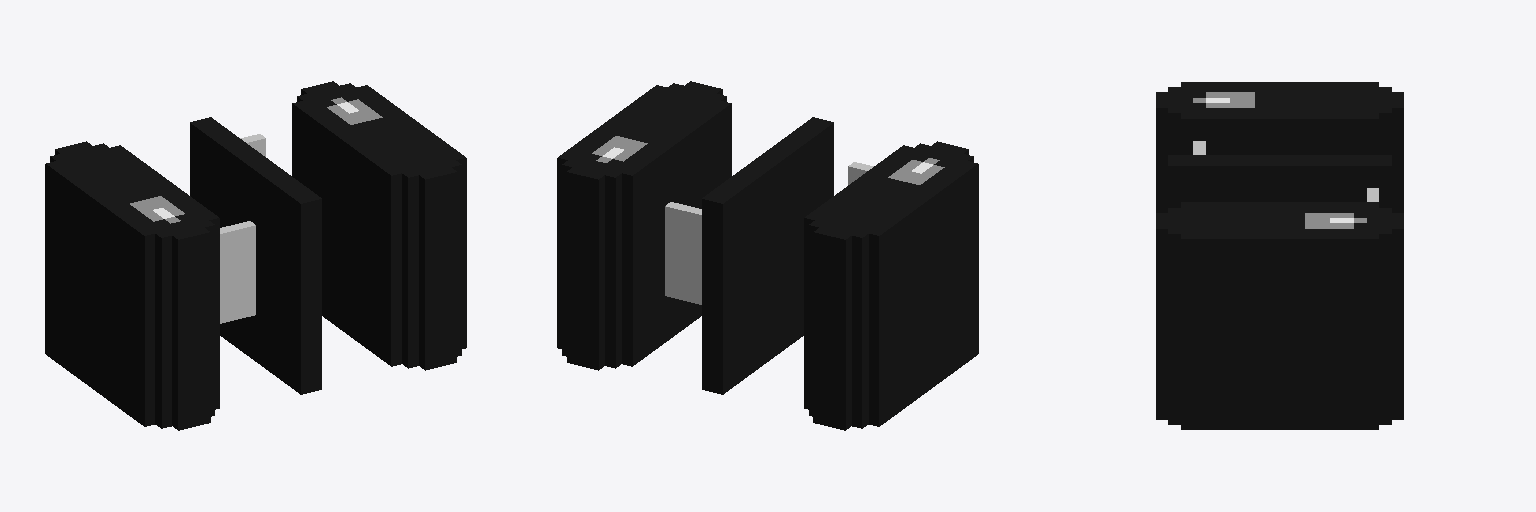
The picture shows the model from 3 angles: view 1: azimuth 30°, elevation 25°; view 2: azimuth 150°, elevation 25°; view 3: azimuth 270°, elevation 25°; orthographic projection.
Visible parts, largest first — view 1: object 1; view 2: object 1; view 3: object 1.
Part boxes in pixels (x1,y1,x2,y2): object 1: (45, 81, 466, 430); object 1: (557, 81, 978, 430); object 1: (1156, 82, 1403, 429).
Bounding box in the file's own units: 3 × 1.7 × 2.
1 materials, 1 textured.